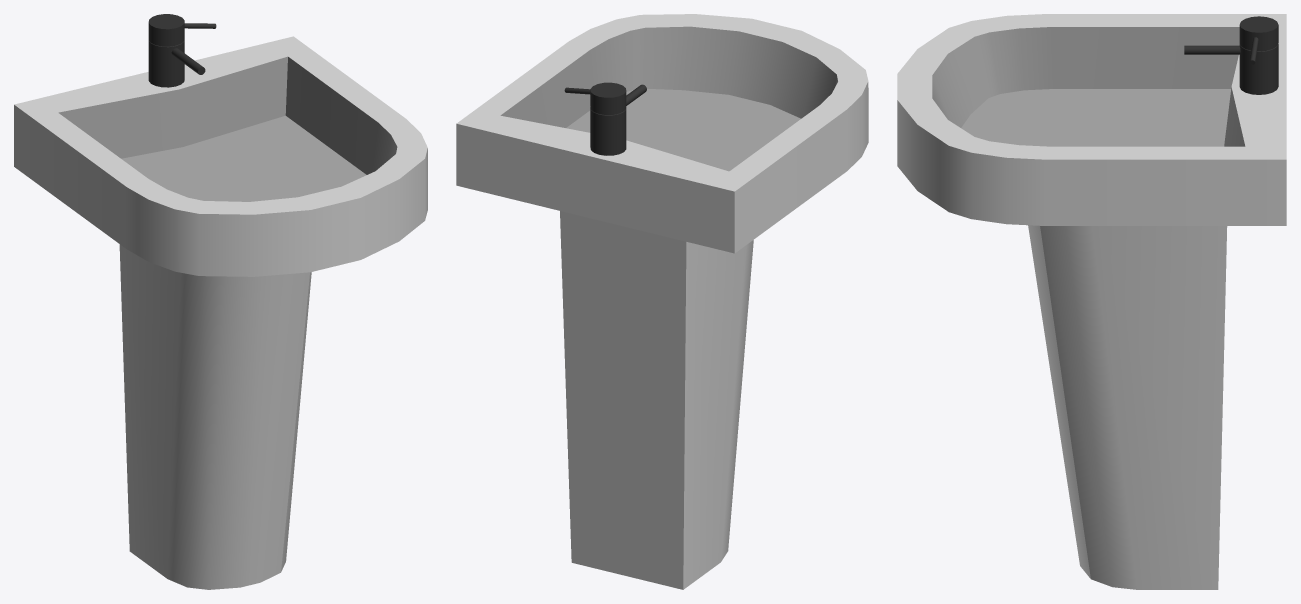
The model's file is Sink.fbx.
The picture shows the model from 3 angles, left to right: view 1: azimuth 30°, elevation 25°; view 2: azimuth 150°, elevation 25°; view 3: azimuth 270°, elevation 25°; orthographic projection. The views are drawn at different scales.
Visible parts, largest first — view 1: Prop_Sink_02; view 2: Prop_Sink_02; view 3: Prop_Sink_02.
Boxes of the visible parts, box(x1,y1,x2,y2) form: Prop_Sink_02: box(14, 14, 427, 589); Prop_Sink_02: box(456, 14, 868, 589); Prop_Sink_02: box(897, 14, 1286, 589).
Size of the model in its own units: 48.77 by 83.71 by 55.08.
Materials: 1 (1 with a texture image).
